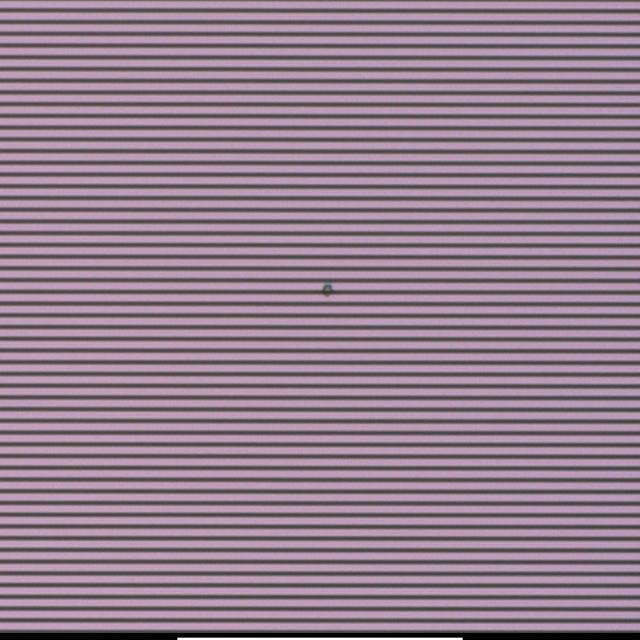03_intrusion: (310, 268, 341, 305)
